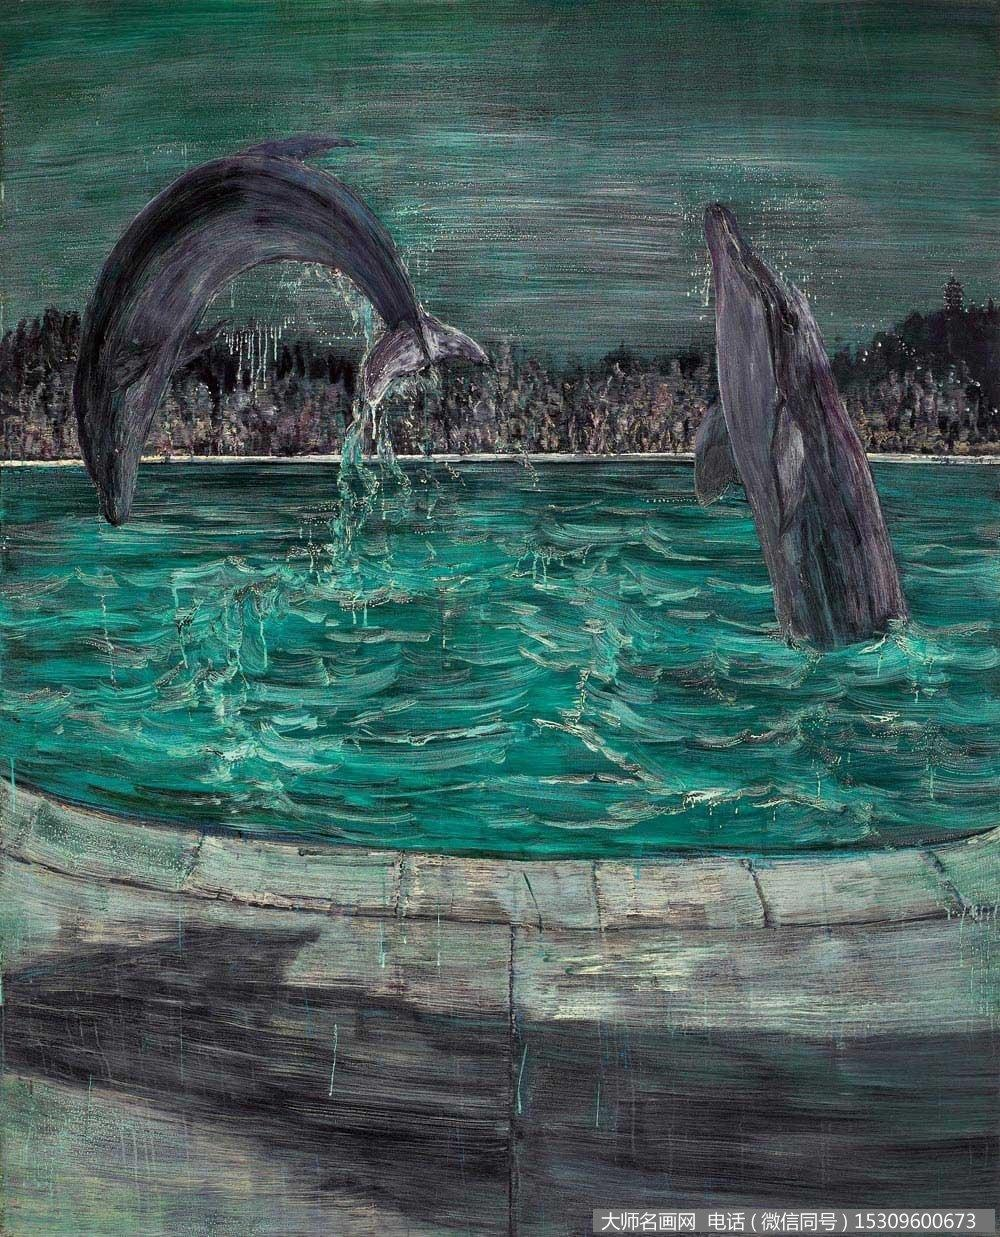fish: (66, 129, 495, 532), (663, 188, 921, 648)
